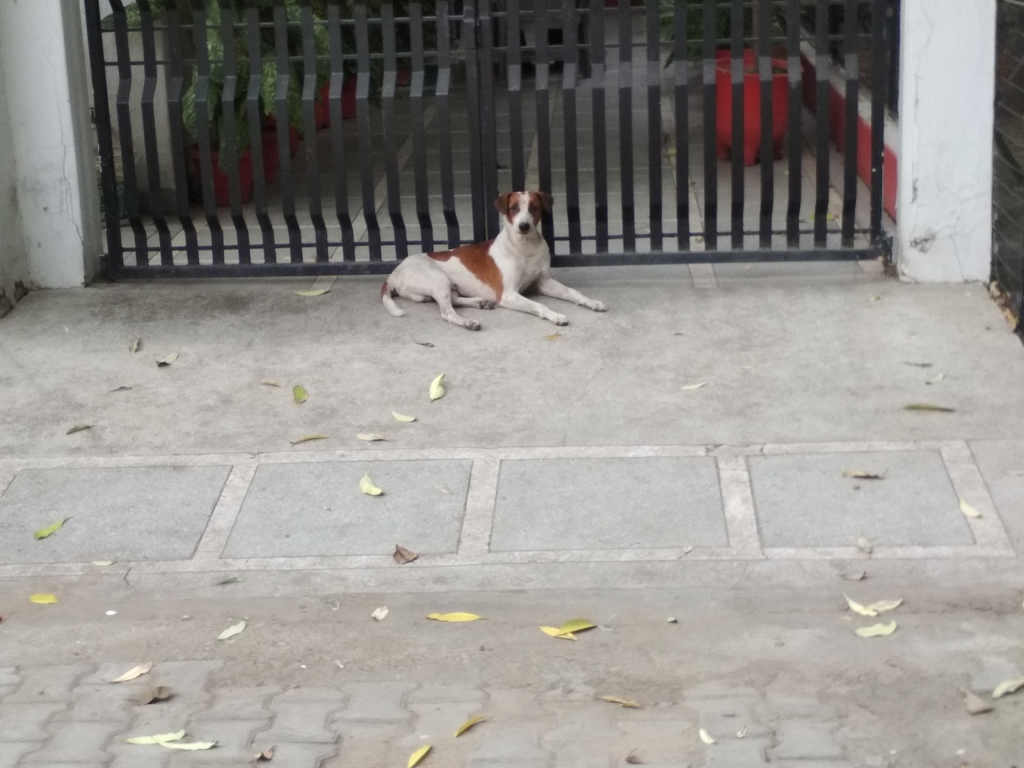dog: (382, 191, 606, 329)
